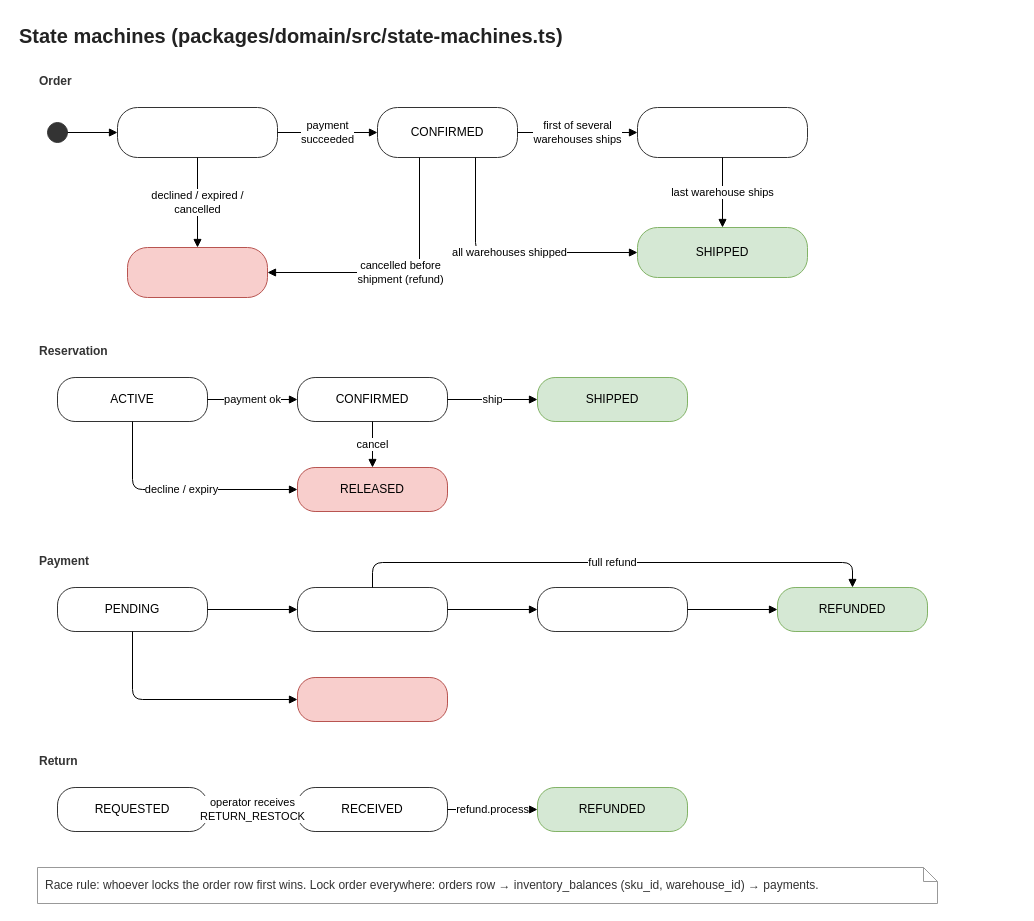
The diagram is 1034 pixels wide and 921 high, and some of its shapes have lost their labels. The shapes that lost their labels are listed below. From the top down, each one's centre as x and y in pixels, then its label:
At [197,132]: "PENDING_PAYMENT".
At [722,132]: "PARTIALLY_SHIPPED".
At [197,272]: "CANCELLED".
At [372,609]: "CAPTURED".
At [612,609]: "PARTIALLY_REFUNDED".
At [372,699]: "DECLINED".
